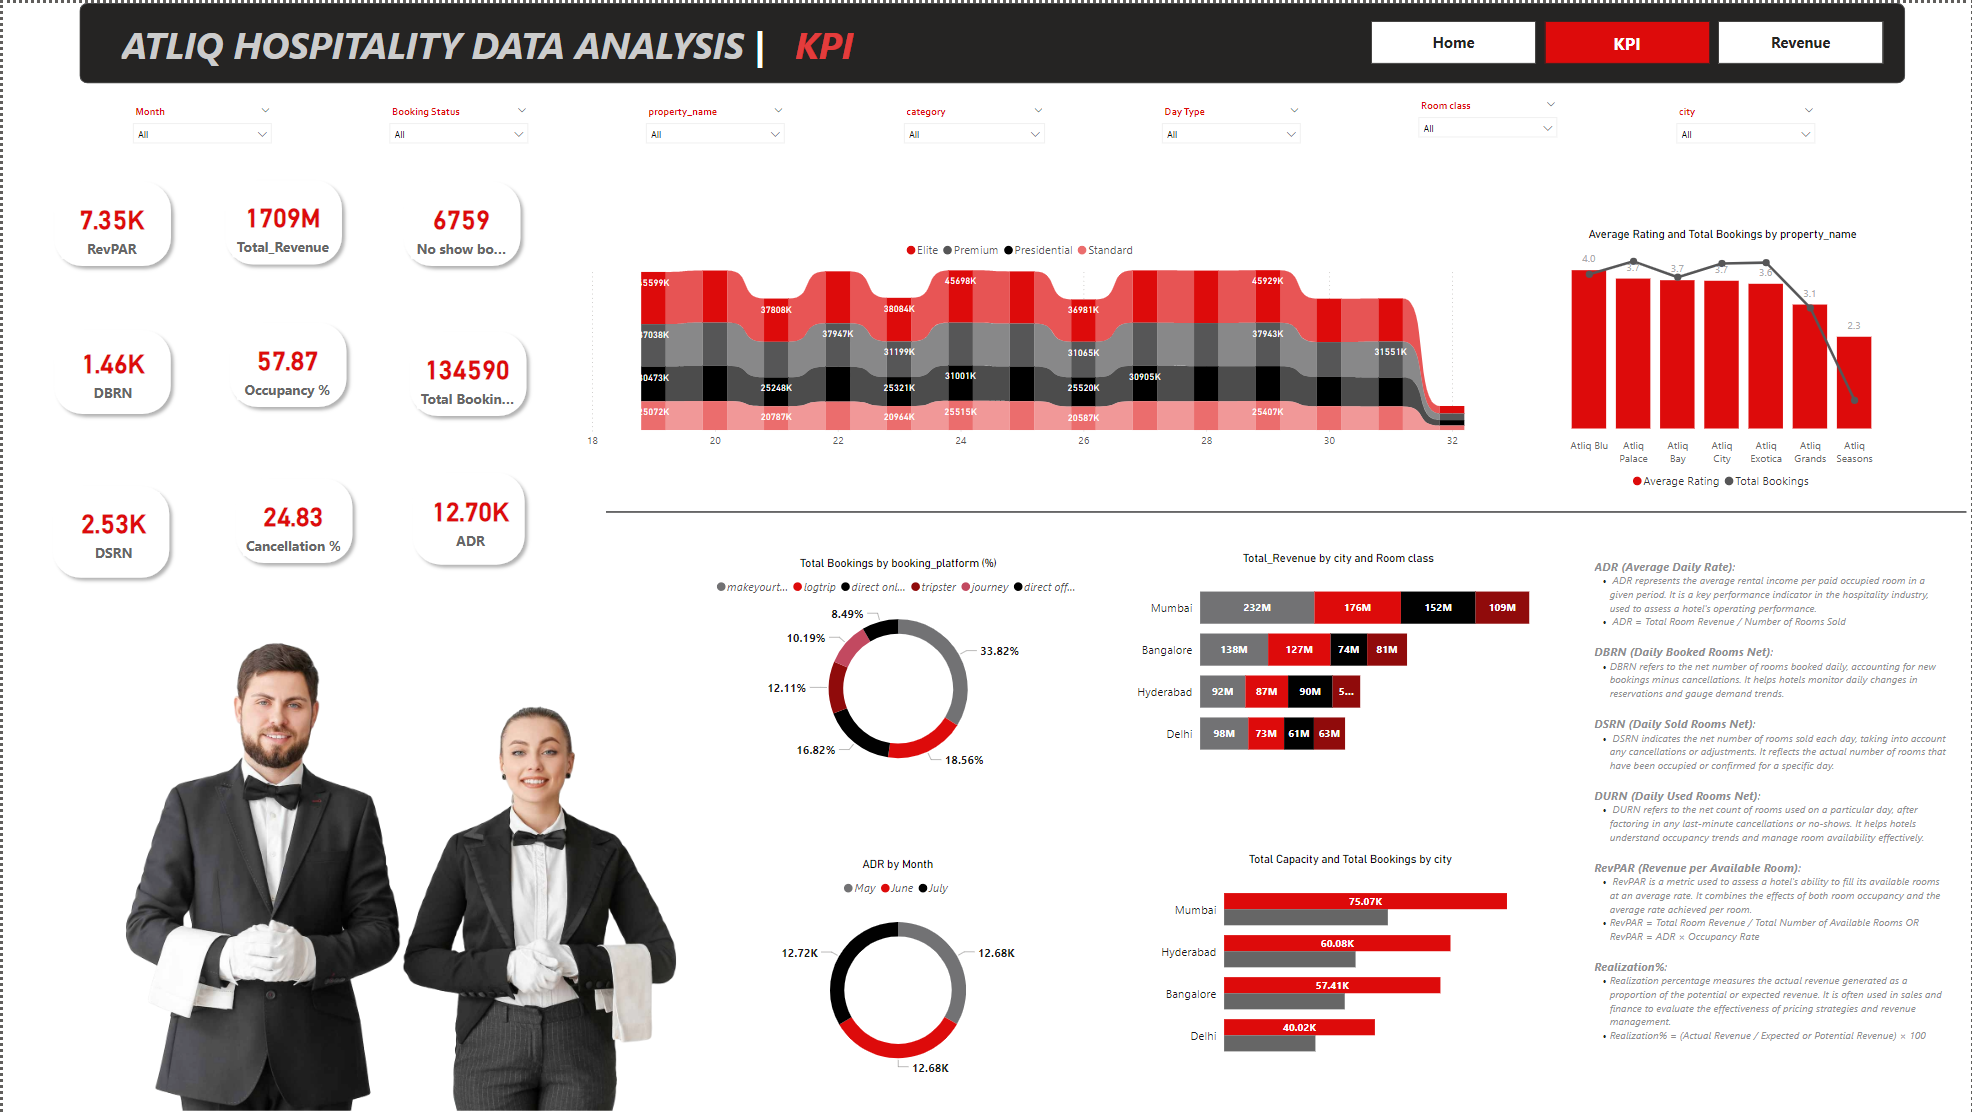

This screenshot's page, from the dashboard's own definition file:
{"tool":"powerbi","page":{"name":"KPI","canvas":[1280,720],"ordinal":4},"visuals":[{"type":"shape","box":[195.6,0,198.7,90.8],"z":0,"group":"g4"},{"type":"group","id":"g1","title":"Group 1","box":[384.6,0,209.1,90.5],"z":0,"group":"g5"},{"type":"shape","title":"OVERALL","box":[384.6,0,209.1,90.5],"z":0,"group":"g1"},{"type":"shape","box":[590.9,2,215.1,90.5],"z":0,"group":"g9"},{"type":"shape","box":[795.6,2,232.1,90.5],"z":0,"group":"g6"},{"type":"group","id":"g2","title":"Group 1","box":[1019.5,5,208.7,90.8],"z":0,"group":"g8"},{"type":"shape","box":[1019.5,5,208.7,90.8],"z":0,"group":"g2"},{"type":"gauge","fields":{"Y":["key_measures.Average Rating"]},"box":[148.2,93.8,340.8,134.1],"z":0},{"type":"shape","box":[26.1,108.9,109.6,104.5],"z":0,"group":"g10"},{"type":"image","box":[370.1,11.1,146.6,69.4],"z":1000,"group":"g5"},{"type":"image","box":[1034.5,13.1,71.6,74.6],"z":1000,"group":"g8"},{"type":"pivotTable","fields":{"Rows":["dim_date.wkn"],"Values":["key_measures.RevPAR","key_measures.Realisation WoW change %","key_measures.ADR","key_measures.Cancellation %","key_measures.DBRN","key_measures.DSRN","key_measures.DURN","dim_date.Occupancy WoW change %","key_measures.Revenue WoW Change %"]},"box":[498.2,280.3,781.5,439.7],"z":1000},{"type":"ribbonChart","fields":{"Category":["dim_date.date.Variation.Date Hierarchy.Month"],"Series":["dim_rooms.Room class"],"Y":["key_measures.Cancellation %"]},"box":[148.2,235,340.8,211.8],"z":2000},{"type":"lineClusteredColumnComboChart","fields":{"Category":["dim_hotels.property_name"],"Y":["key_measures.Average Rating"],"Y2":["key_measures.Total Bookings"]},"box":[148.2,446.7,340.8,273.3],"z":3000},{"type":"group","id":"g3","title":"Group 10","box":[0,108.9,142.2,610.1],"z":4000},{"type":"image","box":[17.1,13.1,129.1,80.7],"z":5000},{"type":"donutChart","fields":{"Y":["key_measures.ADR"],"Category":["dim_date.date.Variation.Date Hierarchy.Month"]},"box":[874.3,93.8,394.3,179.5],"z":6000},{"type":"slicer","fields":{"Values":["dim_hotels.city"]},"box":[0,351.2,138.7,60.3],"z":6000,"group":"g3"},{"type":"donutChart","fields":{"Y":["key_measures.ADR"],"Category":["dim_hotels.city"]},"box":[498.2,93.8,369.1,178.5],"z":7000},{"type":"slicer","fields":{"Values":["dim_date.day type"]},"box":[3,506,132.7,61.3],"z":7000,"group":"g3"},{"type":"group","id":"g4","title":"Group 1","box":[195.6,0,198.7,90.8],"z":8000},{"type":"slicer","fields":{"Values":["dim_rooms.room_class"]},"box":[1,427.6,138.7,65.3],"z":8000,"group":"g3"},{"type":"group","id":"g5","title":"Group 2","box":[370.1,0,223.6,90.5],"z":9000},{"type":"slicer","fields":{"Values":["dim_hotels.property_name"]},"box":[0,582.4,132.7,60.3],"z":9000,"group":"g3"},{"type":"group","id":"g6","title":"Group 1","box":[771.4,2,256.1,90.8],"z":10000},{"type":"slicer","fields":{"Values":["fact_bookings.booking_status"]},"box":[0,657.8,132.7,61.3],"z":10000,"group":"g3"},{"type":"group","id":"g7","title":"Group 9","box":[590.9,2,215.8,90.8],"z":11000},{"type":"group","id":"g8","title":"Group 11","box":[1019.5,5,208.7,90.8],"z":12000},{"type":"image","box":[46.2,132,70.4,75.4],"z":12000,"group":"g10"},{"type":"group","id":"g9","title":"Group 1","box":[590.9,2,215.1,90.5],"z":13000,"group":"g7"},{"type":"slicer","fields":{"Values":["dim_hotels.category"]},"box":[0,280.8,138.7,60.3],"z":20000,"group":"g3"},{"type":"slicer","fields":{"Values":["dim_date.date.Variation.Date Hierarchy.Month"]},"box":[3,208.4,138.7,60.3],"z":21000,"group":"g3"},{"type":"group","id":"g10","title":"Group 8","box":[26.1,108.9,109.6,104.5],"z":22000,"group":"g3"},{"type":"image","box":[602.3,10,83.4,68.4],"z":24001,"group":"g7"},{"type":"image","box":[771.4,12.1,166.4,63.3],"z":25001,"group":"g6"},{"type":"image","title":"HOME","box":[198.1,0,119.9,84.7],"z":26000,"group":"g4"}]}

Visuals, with their boxes in screenshot pixels (x1, y1, x2, y2), scaled from the page's 1280x720 canvas onto the 1972x1114 screenshot:
shape: bbox=[301, 0, 607, 140]
"Group 1" group: bbox=[593, 0, 915, 140]
"OVERALL" shape: bbox=[593, 0, 915, 140]
shape: bbox=[910, 3, 1242, 143]
shape: bbox=[1226, 3, 1583, 143]
"Group 1" group: bbox=[1571, 8, 1892, 148]
shape: bbox=[1571, 8, 1892, 148]
gauge - key_measures.Average Rating: bbox=[228, 145, 753, 353]
shape: bbox=[40, 168, 209, 330]
image: bbox=[570, 17, 796, 125]
image: bbox=[1594, 20, 1704, 136]
pivotTable - dim_date.wkn x key_measures.RevPAR: bbox=[768, 434, 1971, 1113]
ribbonChart - dim_date.date.Variation.Date Hierarchy.Month x dim_rooms.Room class: bbox=[228, 364, 753, 691]
lineClusteredColumnComboChart - dim_hotels.property_name x key_measures.Average Rating: bbox=[228, 691, 753, 1113]
"Group 10" group: bbox=[0, 168, 219, 1112]
image: bbox=[26, 20, 225, 145]
donutChart - key_measures.ADR x dim_date.date.Variation.Date Hierarchy.Month: bbox=[1347, 145, 1954, 423]
slicer - dim_hotels.city: bbox=[0, 543, 214, 637]
donutChart - key_measures.ADR x dim_hotels.city: bbox=[768, 145, 1336, 421]
slicer - dim_date.day type: bbox=[5, 783, 209, 878]
"Group 1" group: bbox=[301, 0, 607, 140]
slicer - dim_rooms.room_class: bbox=[2, 662, 215, 763]
"Group 2" group: bbox=[570, 0, 915, 140]
slicer - dim_hotels.property_name: bbox=[0, 901, 204, 994]
"Group 1" group: bbox=[1188, 3, 1583, 144]
slicer - fact_bookings.booking_status: bbox=[0, 1018, 204, 1113]
"Group 9" group: bbox=[910, 3, 1243, 144]
"Group 11" group: bbox=[1571, 8, 1892, 148]
image: bbox=[71, 204, 180, 321]
"Group 1" group: bbox=[910, 3, 1242, 143]
slicer - dim_hotels.category: bbox=[0, 434, 214, 528]
slicer - dim_date.date.Variation.Date Hierarchy.Month: bbox=[5, 322, 218, 416]
"Group 8" group: bbox=[40, 168, 209, 330]
image: bbox=[928, 15, 1056, 121]
image: bbox=[1188, 19, 1445, 117]
"HOME" image: bbox=[305, 0, 490, 131]
